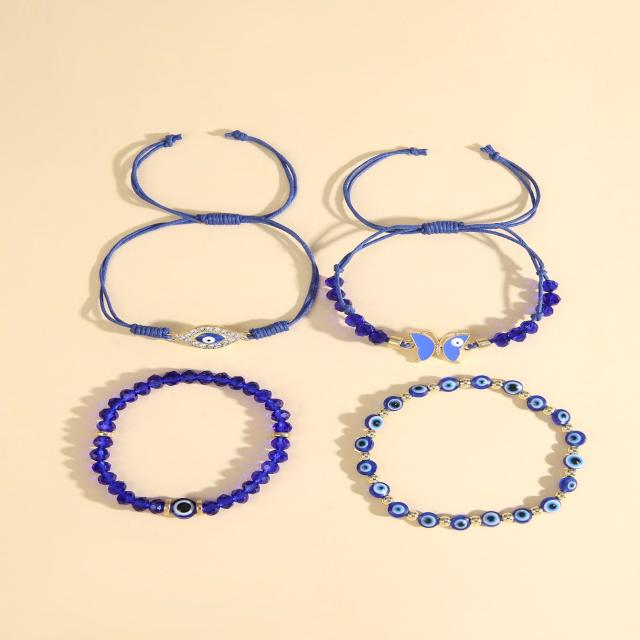bracelet: (61, 74, 614, 624)
